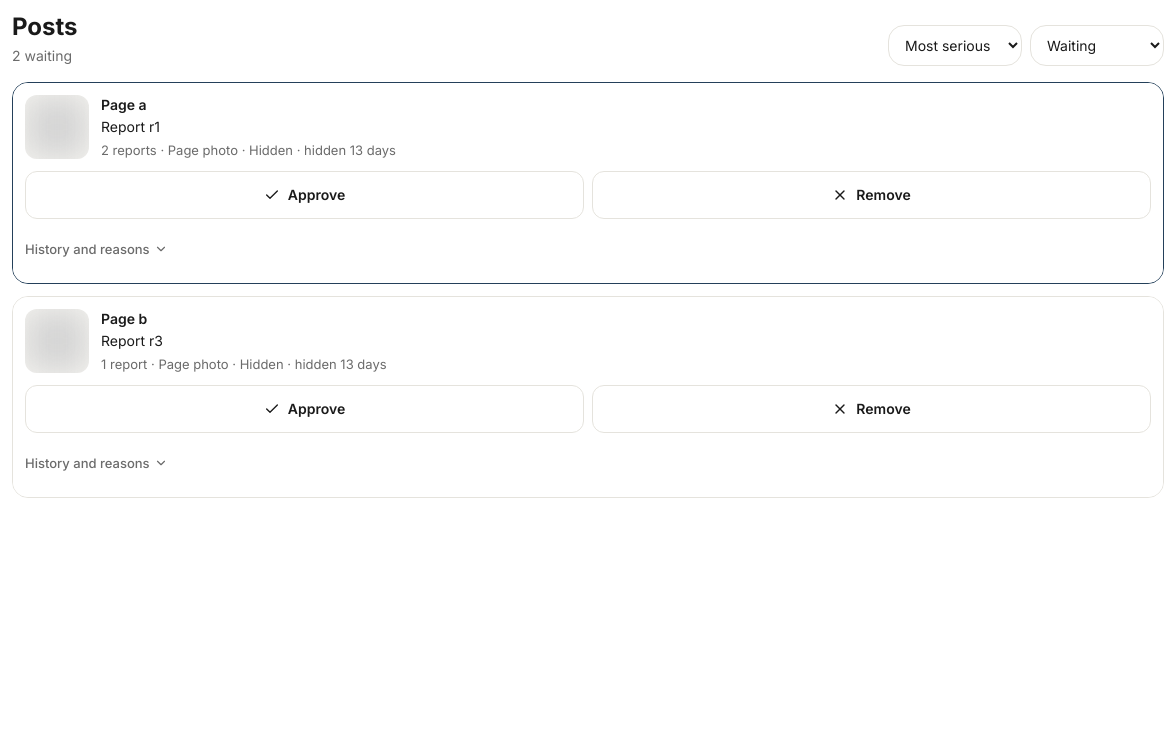
Test: F101 — one tap, then a five-second Undo › the Undo toast waits while it is hovered or focused
Click the button with test id "review-remove": [872, 195] box x1=592 y1=171 x2=1151 y2=219
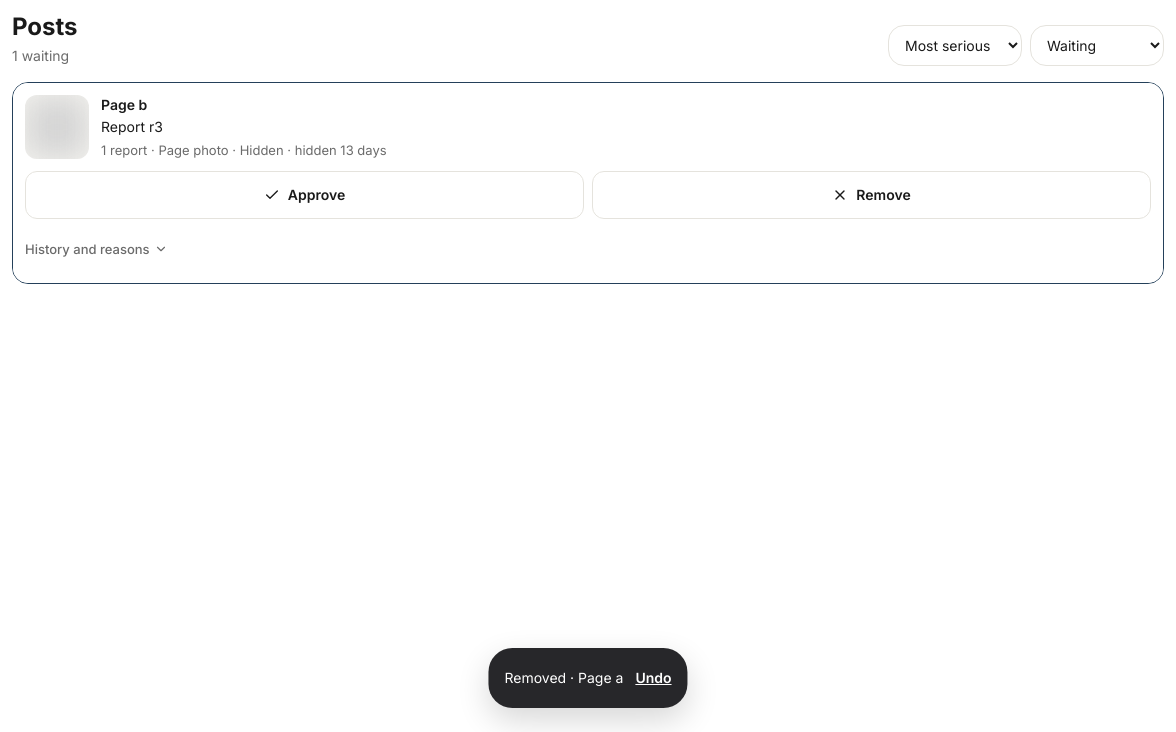
Hover over the message with test id "toast": [588, 678] box x1=488 y1=648 x2=688 y2=708
Wait 10000 ms
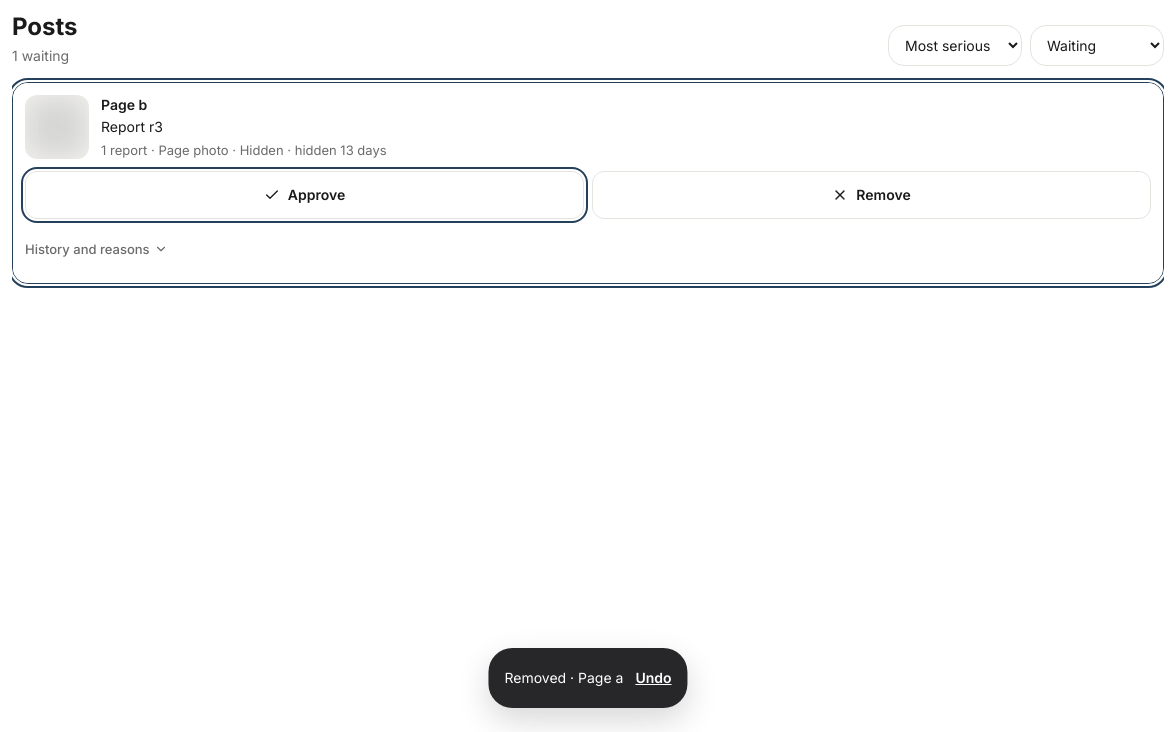
Click the button "Undo": [653, 678] box x1=635 y1=656 x2=672 y2=700
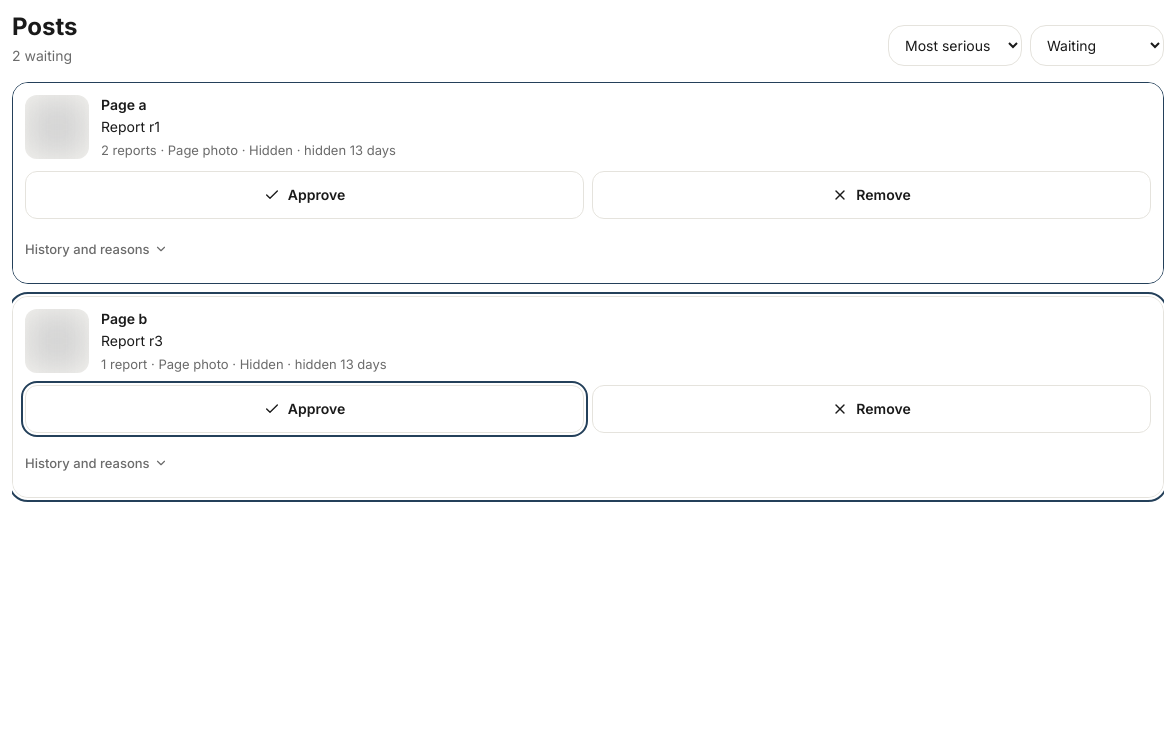
Now the number of list items with test id "review-row" is 2, box x1=12 y1=82 x2=1164 y2=284; x1=12 y1=296 x2=1164 y2=498
